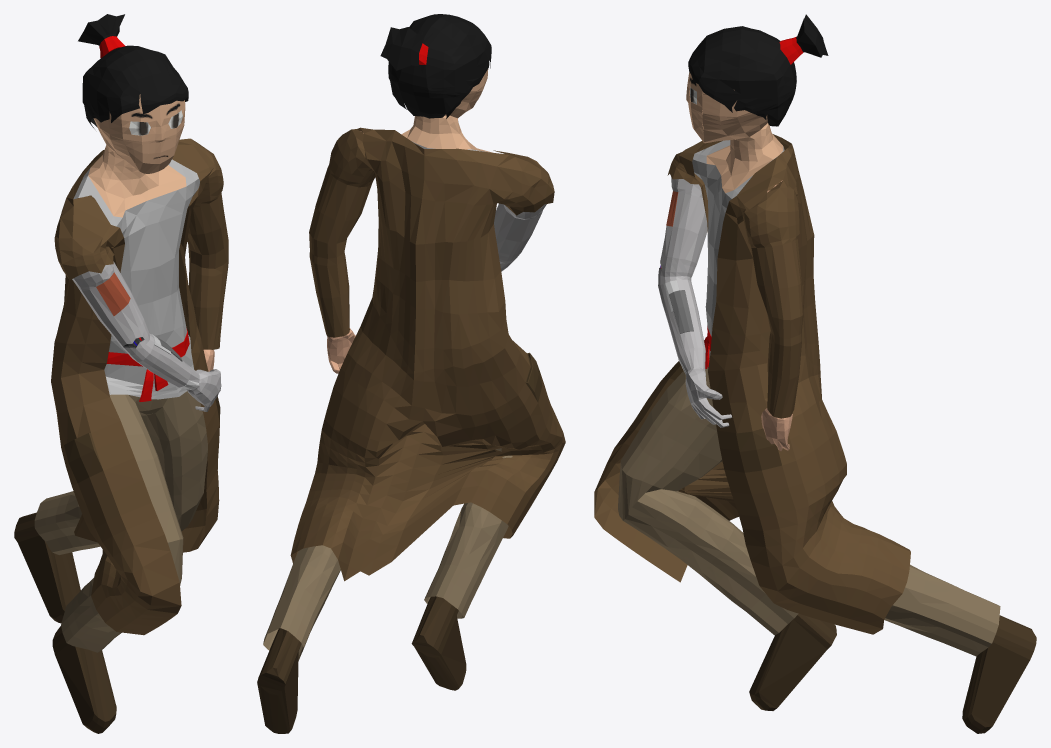
The model's file is One_Die_000003.obj.
3 renders of one model, left to right at view 1: azimuth 30°, elevation 25°; view 2: azimuth 150°, elevation 25°; view 3: azimuth 270°, elevation 25°, orthographic. The views are drawn at different scales.
Visible parts, largest first — view 1: Hair_Cube.004; view 2: Hair_Cube.004; view 3: Hair_Cube.004.
Boxes of the visible parts, bbox=[...] form: Hair_Cube.004: bbox=[14, 14, 228, 733]; Hair_Cube.004: bbox=[257, 14, 565, 733]; Hair_Cube.004: bbox=[594, 14, 1036, 733].
Bounding box in the file's own units: 1.15 × 3.65 × 2.07.
